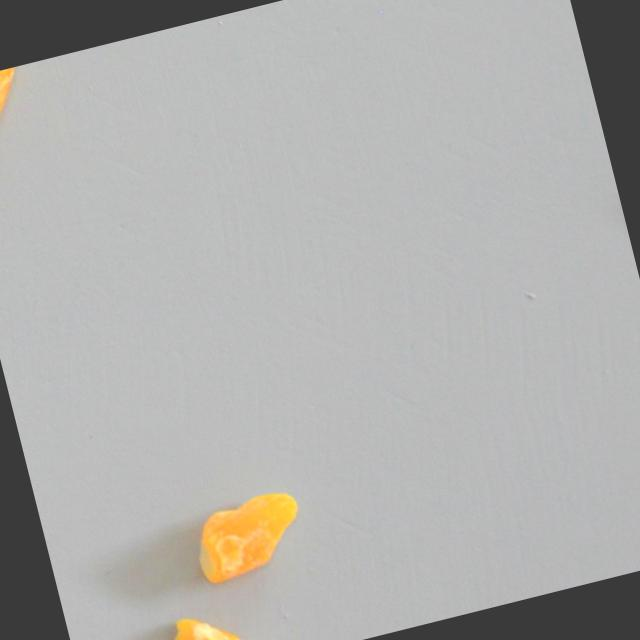pelicula: (185, 486, 312, 589), (166, 604, 247, 640), (0, 63, 40, 128)
